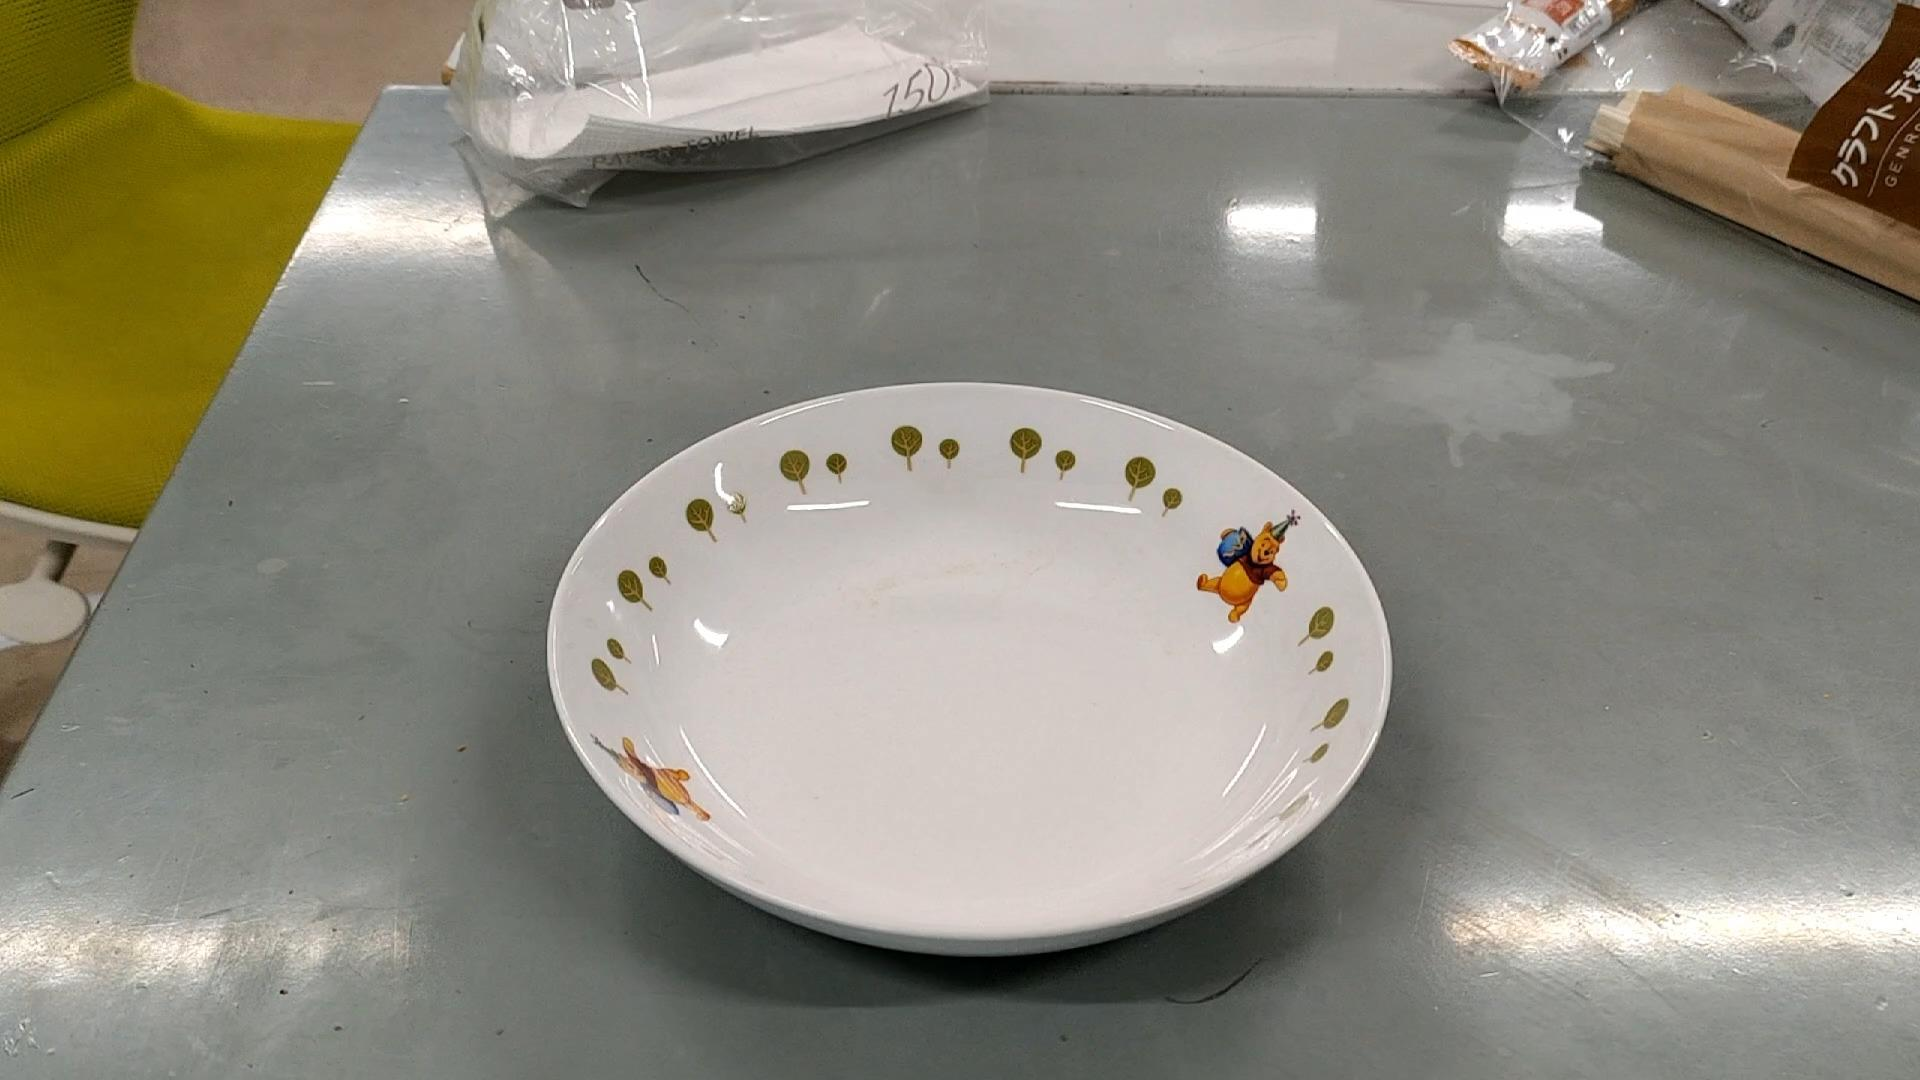plate: (549, 378, 1393, 964)
